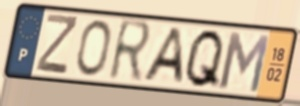A: (139, 26, 186, 87)
M: (217, 28, 272, 95)
O: (74, 18, 113, 79)
Q: (182, 27, 227, 92)
R: (105, 17, 154, 86)
Z: (33, 12, 81, 78)
